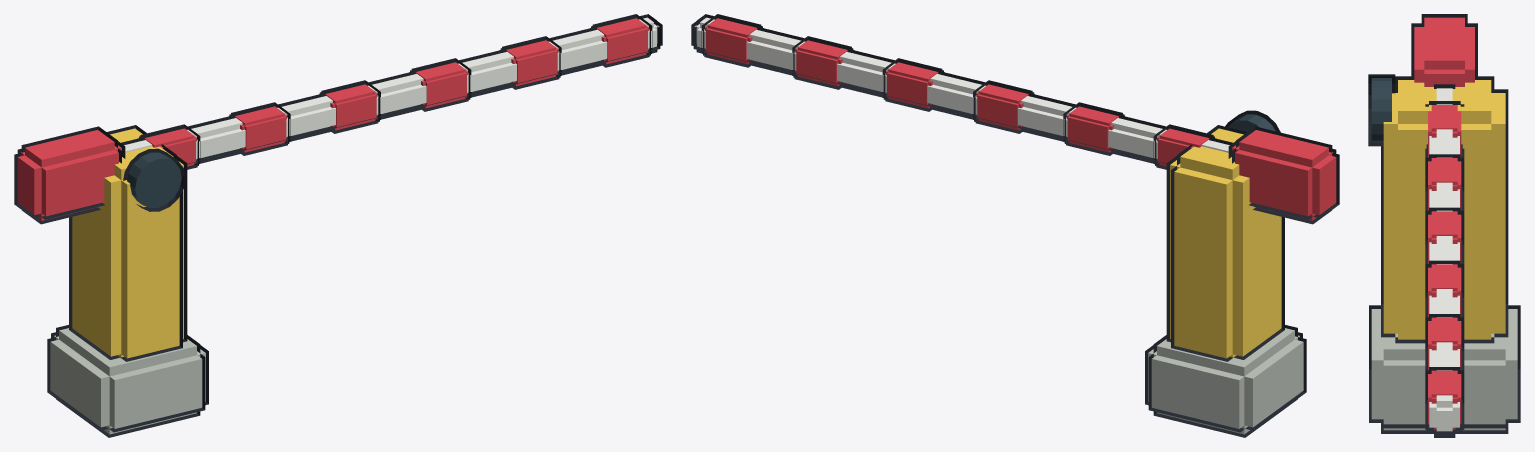
File: CrossingGate_Left.fbx
3 views of the same model, side by side, from view 1: azimuth 30°, elevation 25°; view 2: azimuth 150°, elevation 25°; view 3: azimuth 270°, elevation 25° (orthographic). The views are drawn at different scales.
Parts seen in each view (by area): view 1: CrossingGate_Left_MotorBase, GateArm_Left_Visual, NPR_Outline_GateArm_Left_Visual, NPR_Outline_CrossingGate_Left_MotorBase; view 2: CrossingGate_Left_MotorBase, GateArm_Left_Visual, NPR_Outline_GateArm_Left_Visual, NPR_Outline_CrossingGate_Left_MotorBase; view 3: CrossingGate_Left_MotorBase, GateArm_Left_Visual, NPR_Outline_CrossingGate_Left_MotorBase, NPR_Outline_GateArm_Left_Visual.
Part boxes in pixels (x1=…): CrossingGate_Left_MotorBase: x1=50, y1=128, x2=205, y2=434; GateArm_Left_Visual: x1=17, y1=17, x2=659, y2=220; NPR_Outline_GateArm_Left_Visual: x1=14, y1=14, x2=662, y2=224; NPR_Outline_CrossingGate_Left_MotorBase: x1=47, y1=125, x2=208, y2=437; CrossingGate_Left_MotorBase: x1=1148, y1=114, x2=1303, y2=434; GateArm_Left_Visual: x1=694, y1=17, x2=1336, y2=220; NPR_Outline_GateArm_Left_Visual: x1=691, y1=14, x2=1339, y2=224; NPR_Outline_CrossingGate_Left_MotorBase: x1=1145, y1=110, x2=1306, y2=437; CrossingGate_Left_MotorBase: x1=1371, y1=78, x2=1517, y2=430; GateArm_Left_Visual: x1=1414, y1=17, x2=1474, y2=431; NPR_Outline_CrossingGate_Left_MotorBase: x1=1368, y1=74, x2=1520, y2=433; NPR_Outline_GateArm_Left_Visual: x1=1411, y1=14, x2=1477, y2=437.
Size of the model in its own units: 217 by 91.39 by 37.49.
